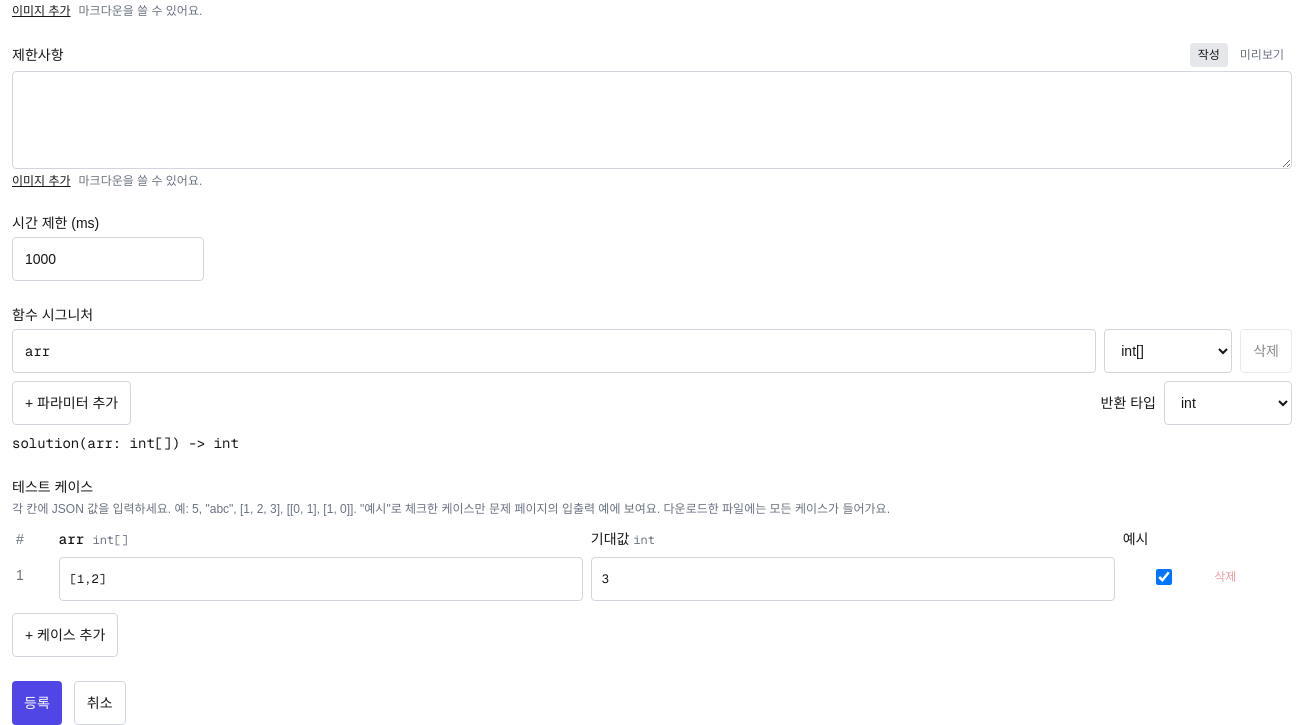
Scenario: ProblemForm › shows a typed cell error inline and disables submit
(page scrolled)
Replace the text in the field named "케이스 1 arr" with "[1, \"a\"]": (321, 579) [59, 557, 583, 601]
(page scrolled)
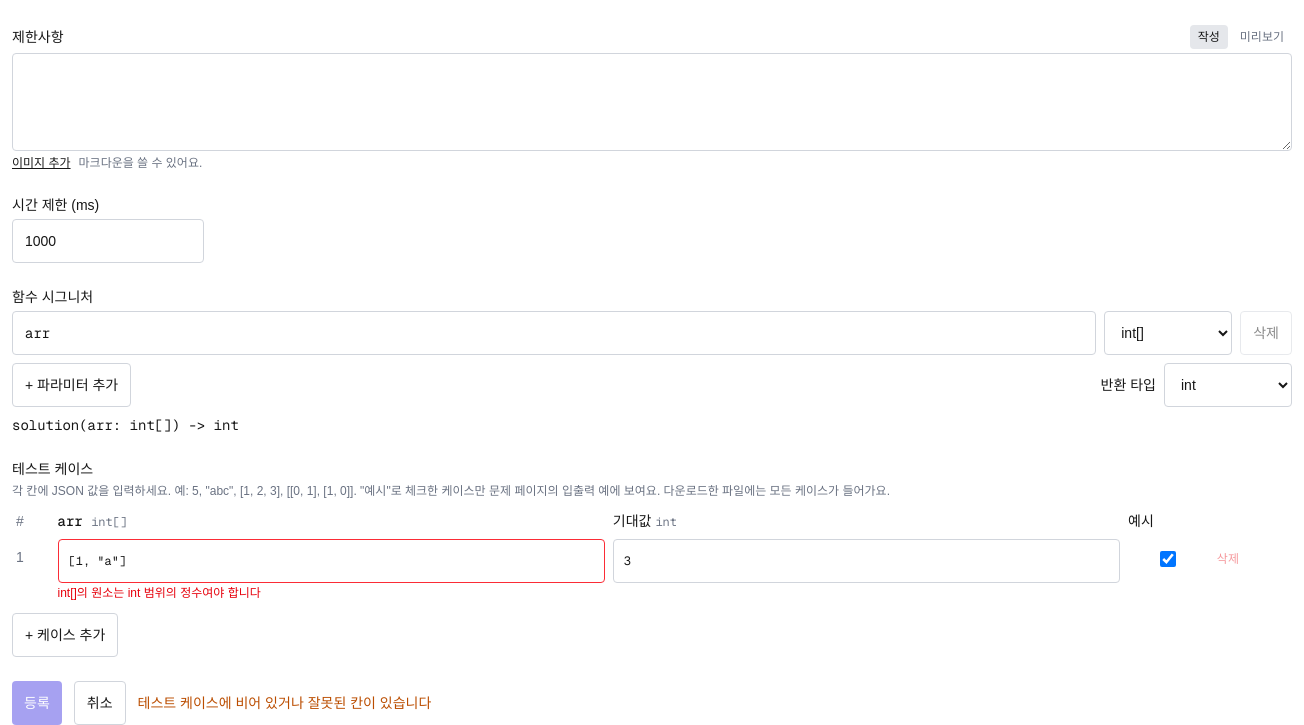
Now the text "int[]의 원소는 int 범위의 정수여야 합니다" is shown, box [58, 586, 261, 600]
Now the button "등록" is disabled, box [12, 681, 62, 724]
